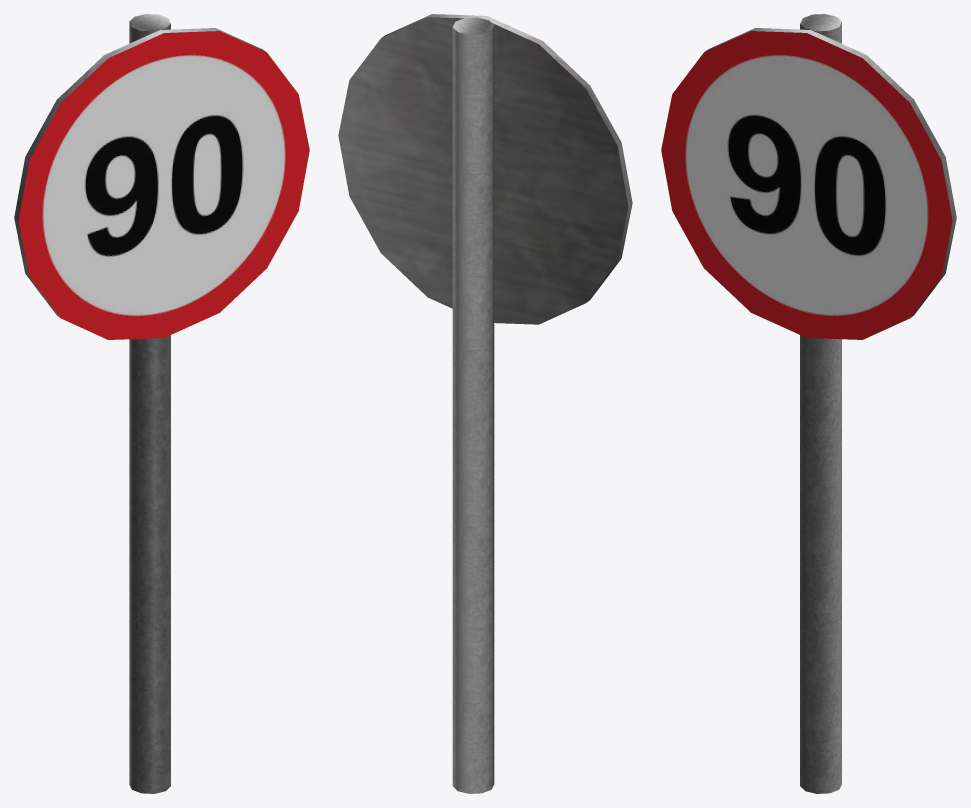
The model's file is SpeedLimitSign.fbx.
3 views of the same model, side by side, from view 1: azimuth 30°, elevation 25°; view 2: azimuth 150°, elevation 25°; view 3: azimuth 330°, elevation 25° (orthographic).
Visible parts, largest first — view 1: SpeedLimitSign; view 2: SpeedLimitSign; view 3: SpeedLimitSign.
Part boxes in pixels (x1,y1,x2,y2): SpeedLimitSign: (14, 14, 309, 793); SpeedLimitSign: (338, 14, 632, 793); SpeedLimitSign: (661, 14, 956, 793).
Bounding box in the file's own units: 79.95 × 200 × 11.45.
Materials: 2 (2 with a texture image).
